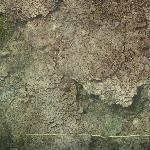dead: (4, 4, 144, 147)
